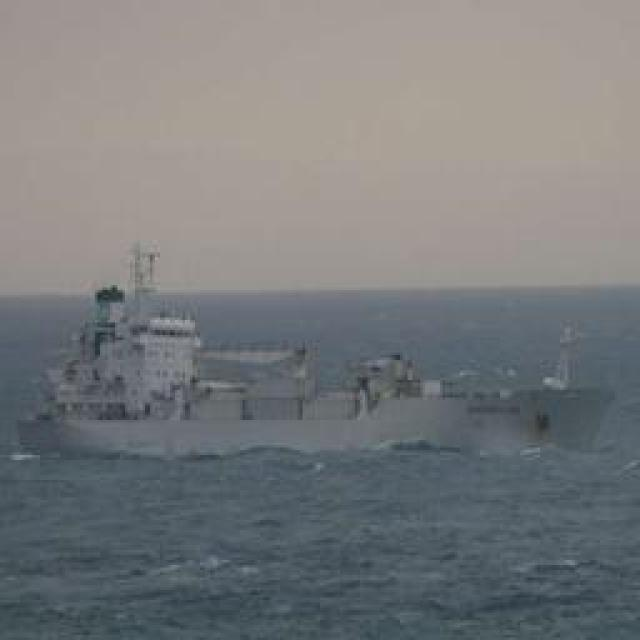Ship: (19, 227, 618, 474)
